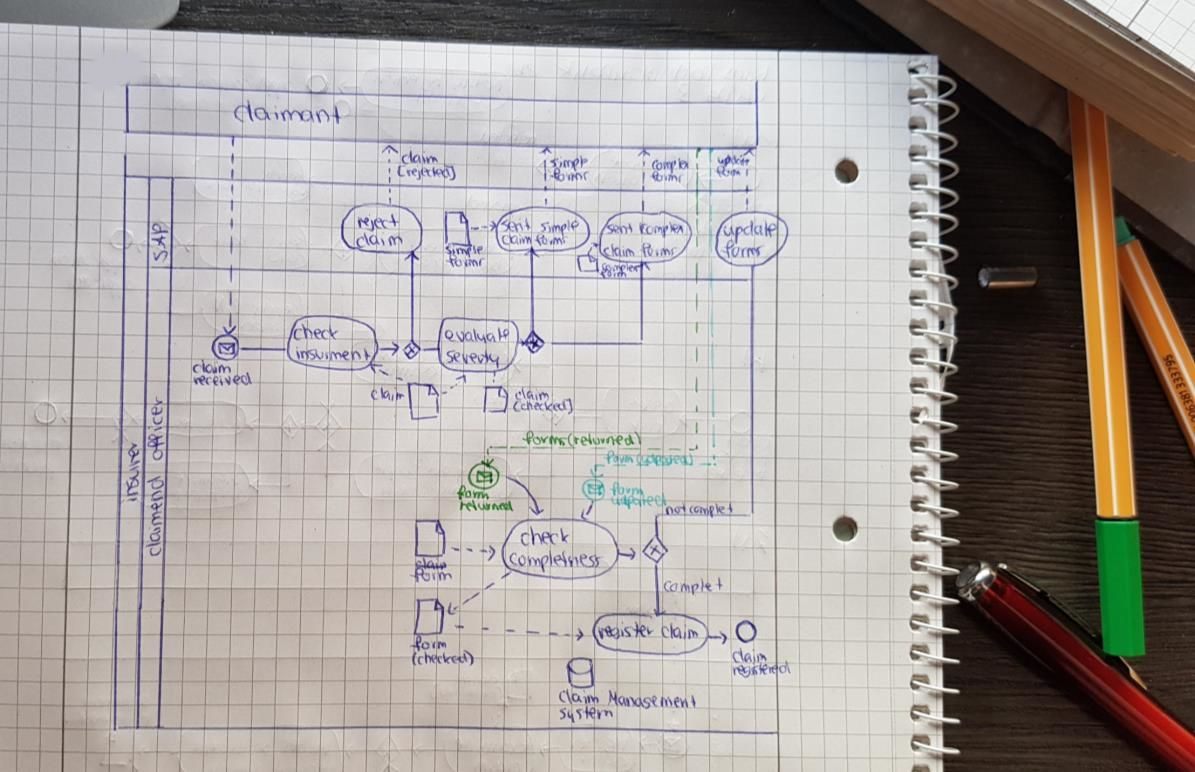(checked): (407, 649, 475, 664)
(returned): (569, 431, 646, 449)
Claim: (557, 689, 606, 709), (501, 234, 533, 247)
Complex: (648, 158, 693, 172)
Form: (412, 567, 452, 584)
Management: (609, 691, 697, 712)
SAP: (149, 222, 169, 260)
Simple: (444, 245, 484, 258)
[checked]: (516, 398, 562, 415)
[rejected]: (393, 165, 456, 178)
check: (519, 526, 571, 546), (288, 323, 340, 343)
claim: (368, 386, 413, 407), (354, 231, 403, 248), (399, 148, 441, 167), (192, 361, 238, 377), (659, 624, 695, 643), (600, 243, 637, 261), (512, 388, 553, 403), (413, 556, 449, 573), (735, 649, 769, 665)
claimant: (230, 102, 347, 127)
claiment: (145, 476, 166, 561)
complet: (660, 575, 725, 596)
complete: (685, 501, 736, 516)
completness: (507, 551, 603, 572)
complex: (636, 220, 684, 240), (598, 259, 638, 272)
evaluate: (444, 327, 512, 345)
form: (454, 485, 492, 506), (607, 481, 646, 496), (600, 448, 634, 464), (413, 637, 448, 652), (711, 165, 742, 179), (595, 269, 628, 282), (534, 234, 565, 247)
forms: (547, 165, 591, 183), (646, 168, 682, 189), (722, 241, 762, 259), (523, 431, 560, 448), (645, 242, 679, 260), (449, 255, 483, 271)
insurement: (292, 343, 369, 365)
insurer: (124, 442, 142, 505)
not: (665, 503, 684, 519)
officer: (146, 397, 167, 463)
received: (190, 374, 252, 388)
register: (593, 622, 657, 642)
registered: (730, 661, 794, 679)
reject: (353, 214, 400, 232)
returned: (457, 499, 514, 513)
sent: (603, 219, 634, 239), (498, 219, 534, 235)
severity: (443, 350, 499, 367)
simple: (536, 218, 584, 236), (551, 155, 590, 174)
system: (557, 706, 618, 723)
update: (722, 222, 779, 242), (711, 152, 752, 167)
updated: (636, 451, 694, 468), (608, 494, 668, 506)
